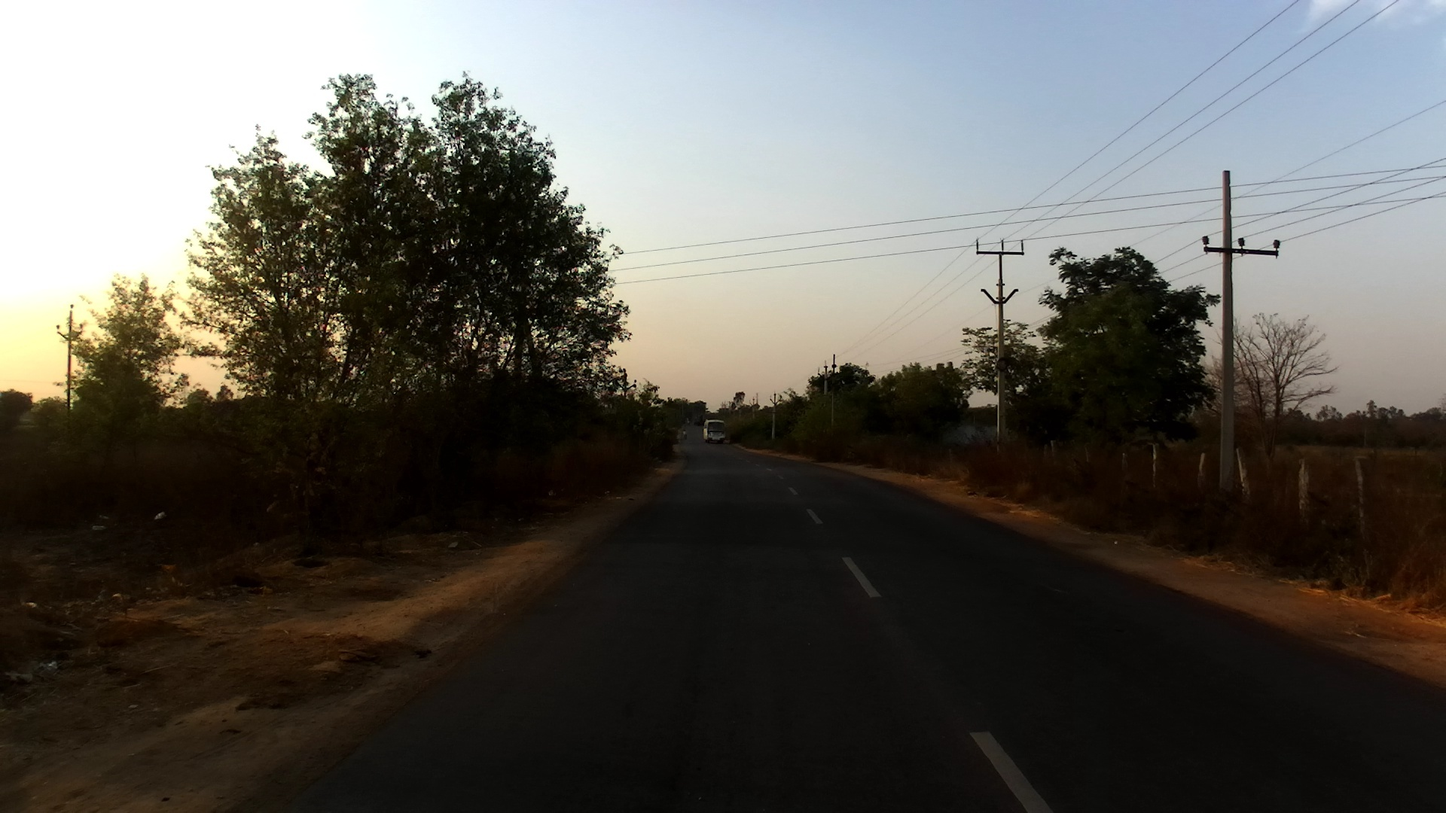bicycle: (680, 434, 688, 444)
bus: (701, 416, 728, 445)
rider: (680, 429, 688, 441)
